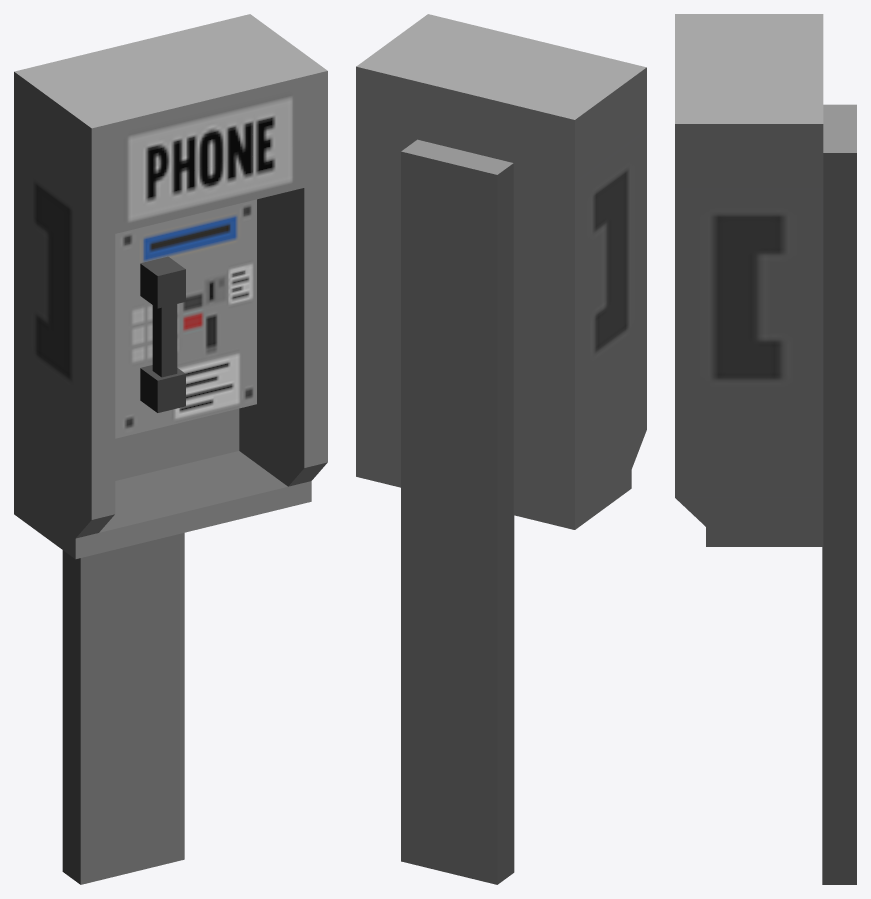
Rendered from SM_PhoneBox_01.fbx.
The picture shows the model from 3 angles, left to right: view 1: azimuth 30°, elevation 25°; view 2: azimuth 150°, elevation 25°; view 3: azimuth 270°, elevation 25°; orthographic projection. The views are drawn at different scales.
Visible parts, largest first — view 1: SM_PhoneBox_01; view 2: SM_PhoneBox_01; view 3: SM_PhoneBox_01.
Boxes of the visible parts, x1,y1,x2,y2 form: SM_PhoneBox_01: (14, 14, 327, 884); SM_PhoneBox_01: (356, 14, 646, 884); SM_PhoneBox_01: (675, 14, 856, 884).
Bounding box in the file's own units: 0.6587 × 2.21 × 0.4599.
